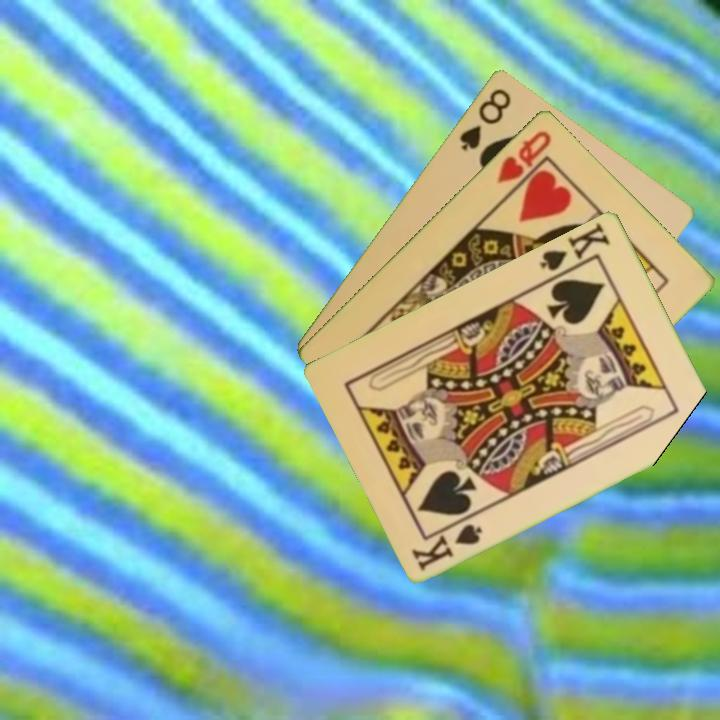8s: (455, 84, 514, 154)
Ks: (408, 519, 486, 574), (536, 219, 613, 274)
Qh: (493, 126, 555, 186)
